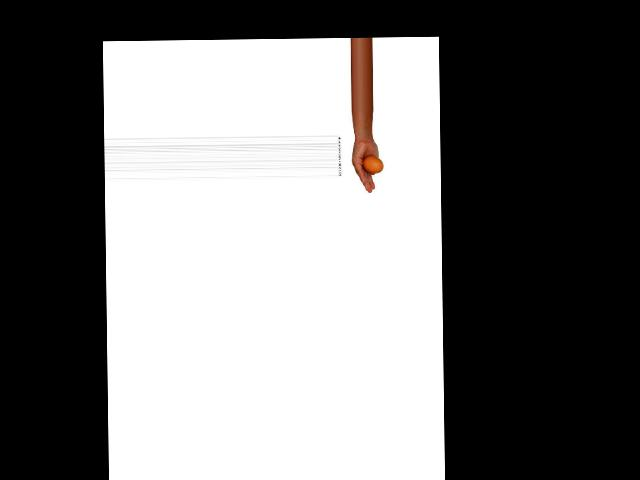egg: (361, 155, 383, 174)
